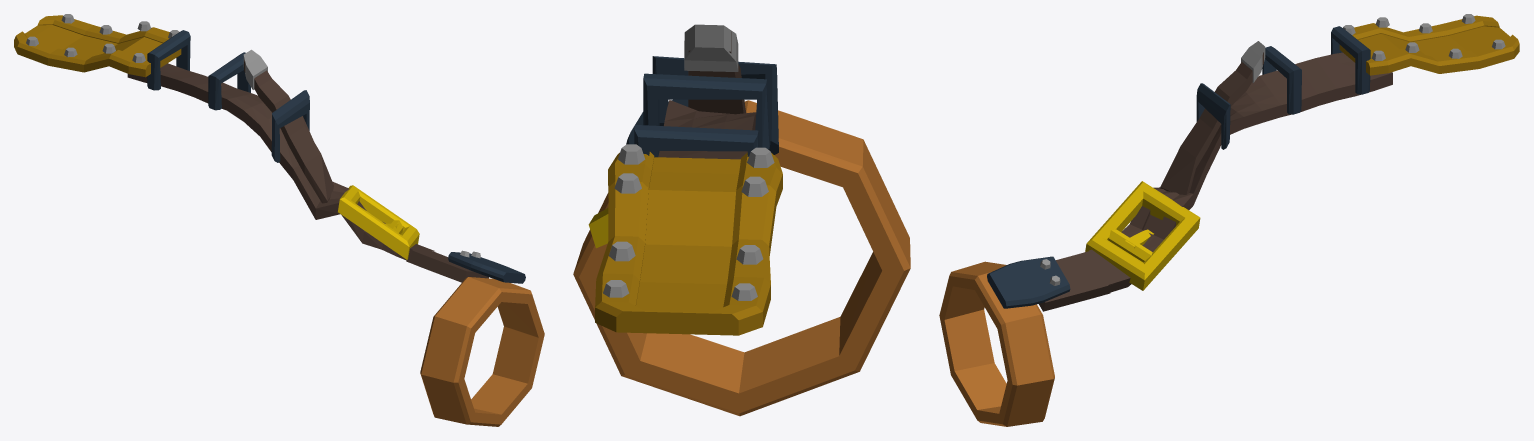
Rendered from buckle-tendon-58b71c.glb.
The picture shows the model from 3 angles, left to right: view 1: azimuth 30°, elevation 25°; view 2: azimuth 150°, elevation 25°; view 3: azimuth 270°, elevation 25°; orthographic projection. The views are drawn at different scales.
Parts seen in each view (by area): view 1: soft:pinky-finger, pinky-finger-phalanx-proximal, middle-finger-metacarpal; view 2: middle-finger-metacarpal, pinky-finger-phalanx-proximal, soft:pinky-finger; view 3: soft:pinky-finger, pinky-finger-phalanx-proximal, middle-finger-metacarpal.
Boxes of the visible parts, x1=… form: soft:pinky-finger: x1=127, y1=30, x2=488, y2=282; pinky-finger-phalanx-proximal: x1=420, y1=250, x2=544, y2=426; middle-finger-metacarpal: x1=14, y1=14, x2=181, y2=77; middle-finger-metacarpal: x1=595, y1=144, x2=782, y2=335; pinky-finger-phalanx-proximal: x1=573, y1=99, x2=910, y2=416; soft:pinky-finger: x1=588, y1=24, x2=778, y2=248; soft:pinky-finger: x1=1039, y1=26, x2=1392, y2=311; pinky-finger-phalanx-proximal: x1=939, y1=256, x2=1070, y2=426; middle-finger-metacarpal: x1=1339, y1=14, x2=1519, y2=75.
Bounding box in the file's own units: 0.0423 × 0.0402 × 0.0658.
